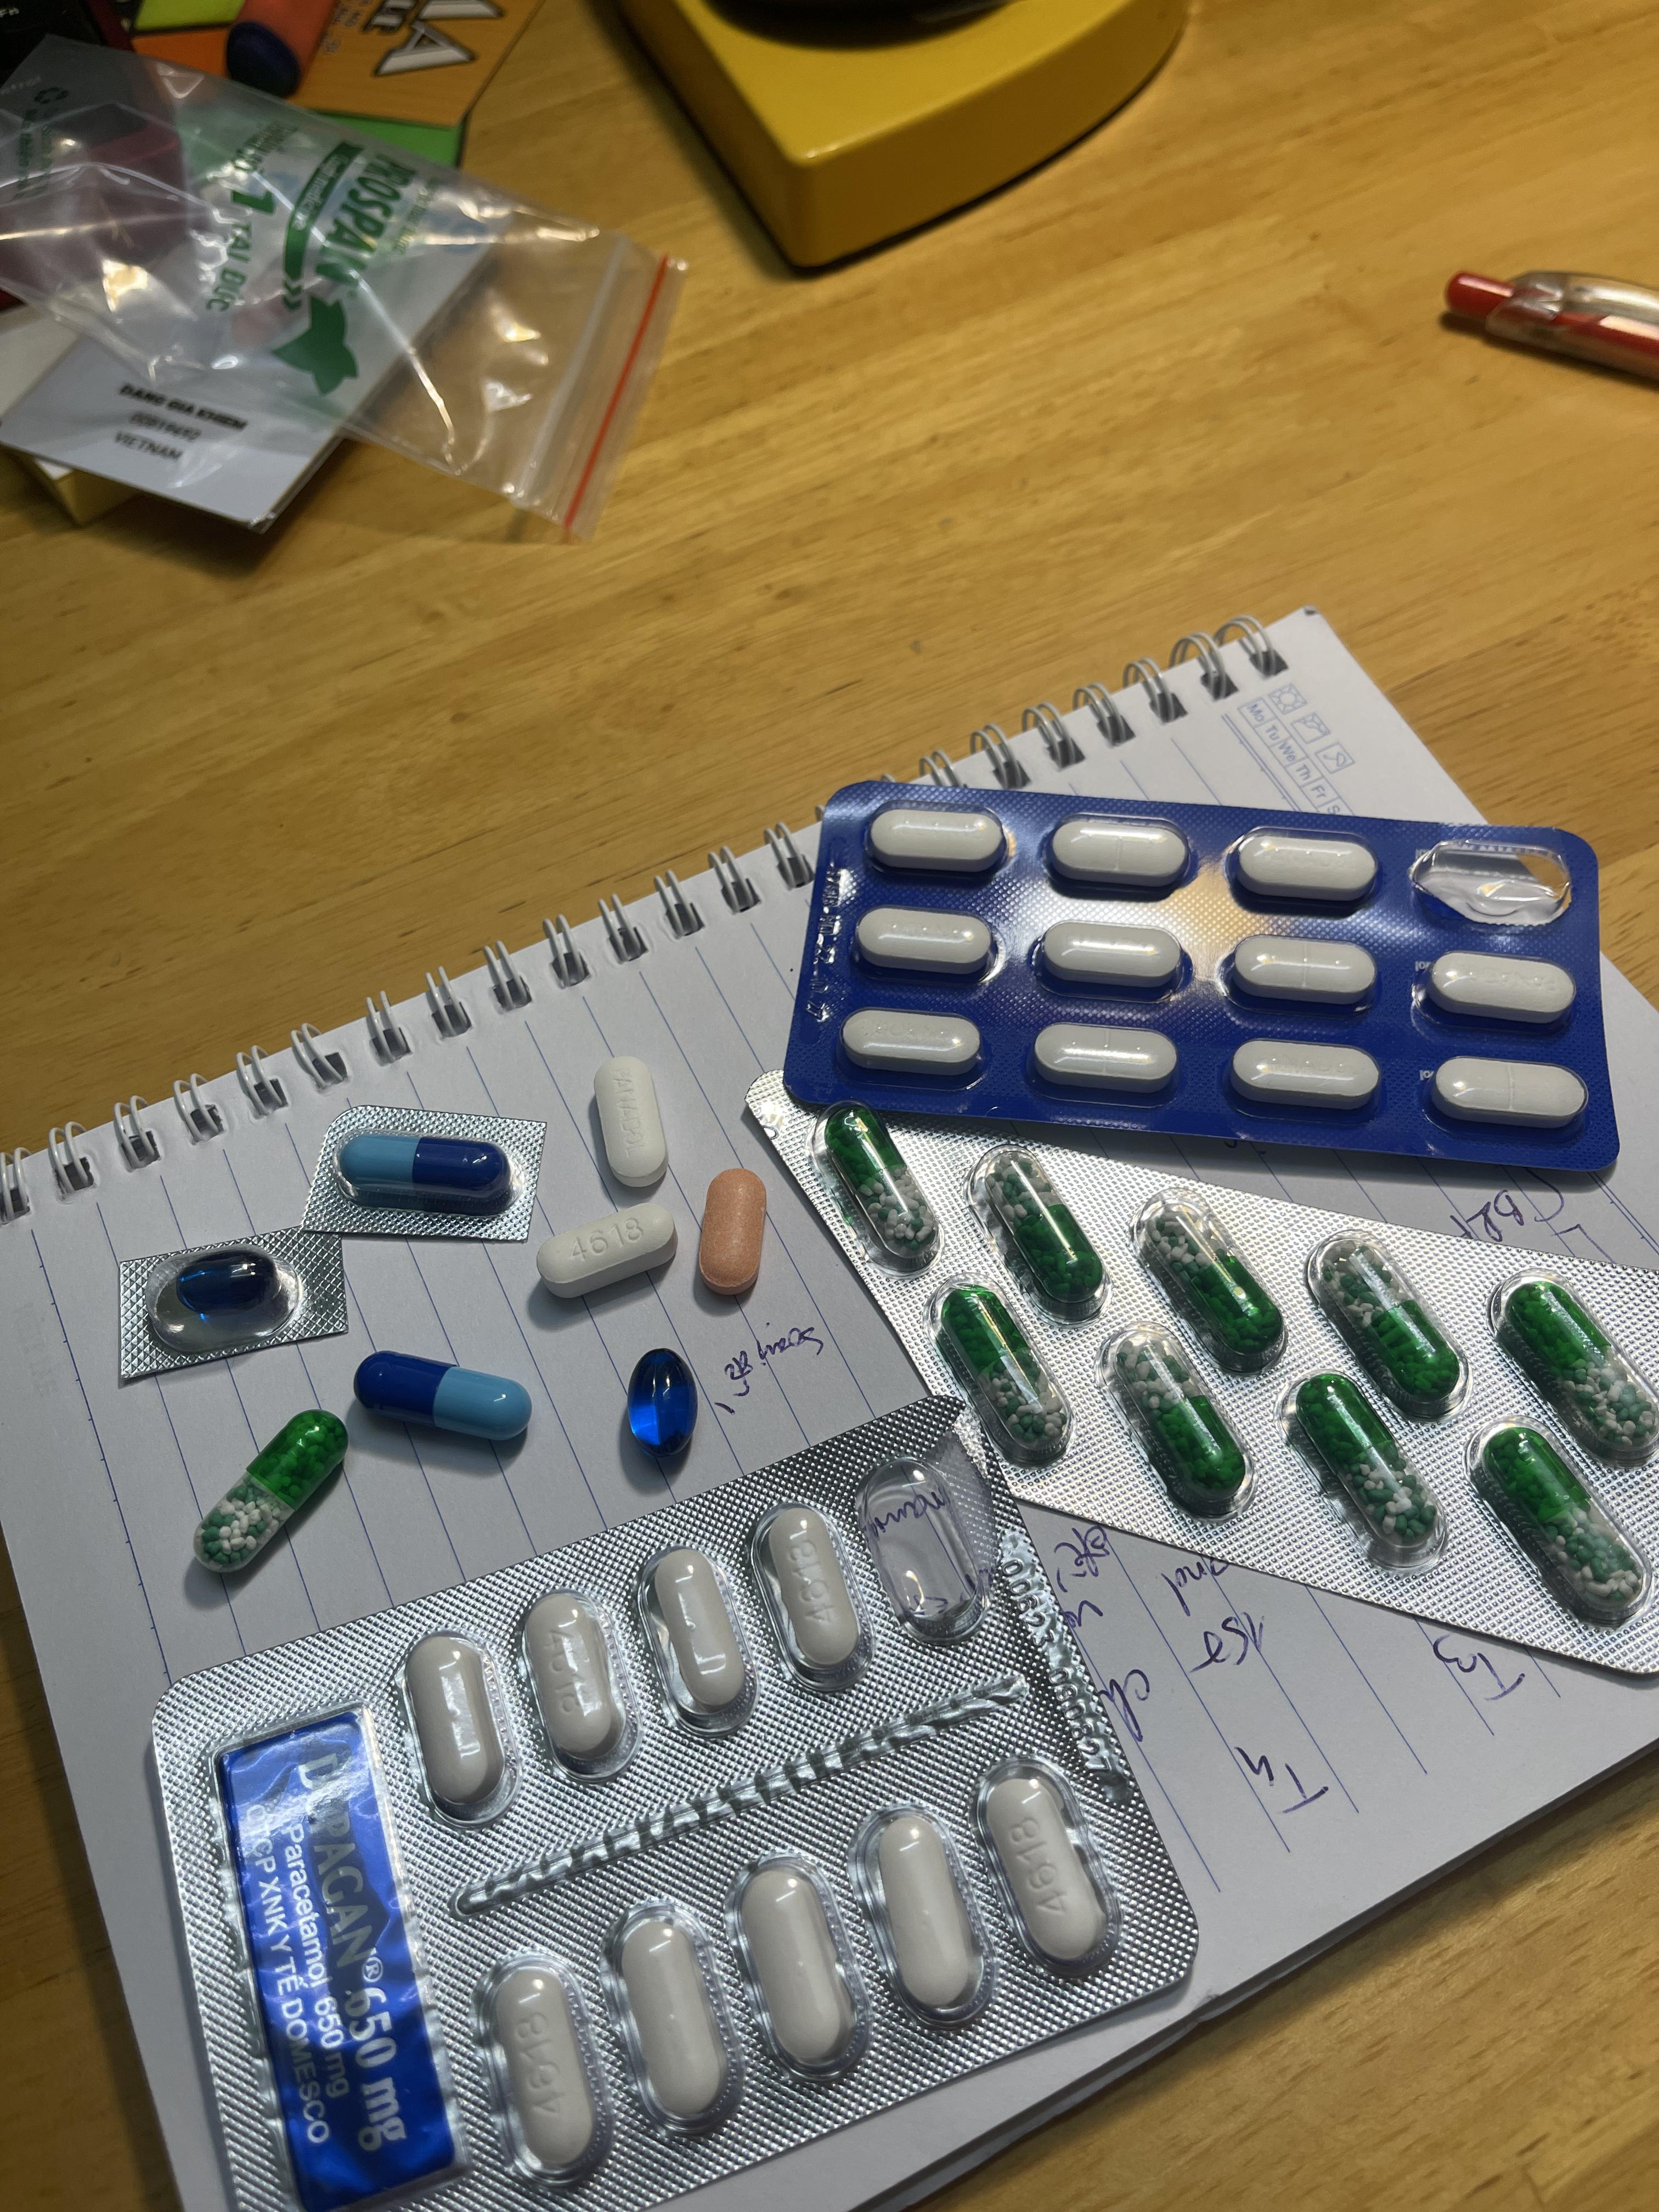Lincomyxin_500mg: (624, 1345, 697, 1468), (167, 1249, 284, 1325)
Loratadine_10mg: (697, 1169, 767, 1292)
Paracetamol_350mg: (1432, 1055, 1589, 1129), (589, 1054, 673, 1190), (1425, 953, 1577, 1024), (1047, 815, 1190, 890), (1232, 831, 1380, 902), (1229, 1038, 1380, 1108), (1230, 935, 1378, 1005), (1032, 1024, 1173, 1096), (1039, 921, 1182, 991), (866, 806, 1007, 876), (856, 907, 993, 977), (840, 1010, 976, 1076)
Paracetamol_500mg: (974, 1759, 1122, 1979), (735, 1857, 870, 2083), (472, 1958, 606, 2182), (612, 1907, 737, 2128), (519, 1588, 636, 1775), (753, 1503, 873, 1683), (401, 1630, 514, 1820), (873, 1815, 978, 2019), (643, 1547, 756, 1724), (535, 1202, 678, 1292)
Paracetamol_650mg: (1096, 1322, 1246, 1514), (188, 1411, 350, 1585), (1483, 1433, 1640, 1608), (1314, 1237, 1467, 1411), (1134, 1200, 1288, 1371), (1504, 1280, 1656, 1447), (1291, 1376, 1434, 1550), (927, 1284, 1061, 1465), (979, 1151, 1110, 1317), (824, 1111, 941, 1264)
pill: (354, 1352, 526, 1449), (340, 1134, 509, 1204)
